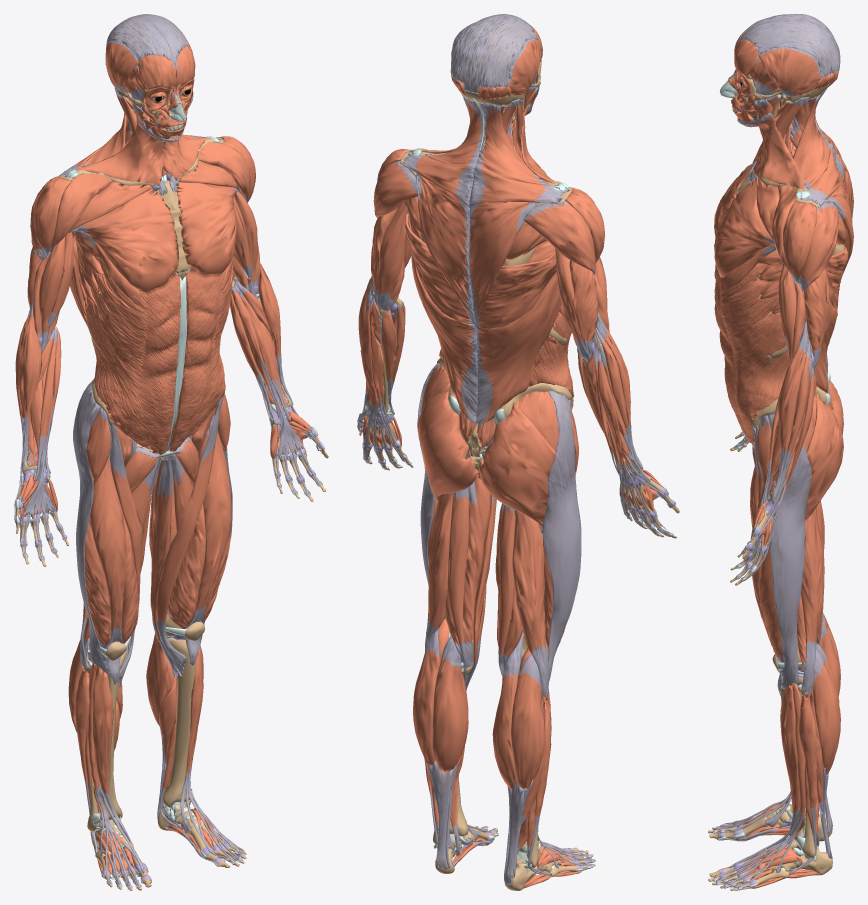
The model's file is myology.glb.
3 renders of one model, left to right at view 1: azimuth 30°, elevation 25°; view 2: azimuth 150°, elevation 25°; view 3: azimuth 270°, elevation 25°, orthographic. The views are drawn at different scales.
Visible parts, largest first — view 1: Object_100, Object_240, Object_29, Object_84, Object_27, Object_70; view 2: Object_100, Object_240, Object_29, Object_84, Object_27; view 3: Object_100, Object_240, Object_29, Object_84, Object_27, Object_61.
Boxes of the visible parts, box(x1,y1,x2,y2) form: Object_100: box(15, 30, 310, 881); Object_240: box(14, 14, 320, 886); Object_29: box(15, 16, 328, 890); Object_84: box(16, 136, 324, 889); Object_27: box(15, 173, 324, 888); Object_70: box(132, 109, 186, 450); Object_100: box(358, 25, 669, 888); Object_240: box(357, 14, 674, 885); Object_29: box(358, 18, 679, 890); Object_84: box(359, 98, 675, 875); Object_27: box(358, 292, 675, 868); Object_100: box(714, 28, 853, 888); Object_240: box(714, 14, 845, 889); Object_29: box(708, 16, 844, 890); Object_84: box(713, 118, 830, 890); Object_27: box(713, 175, 814, 890); Object_61: box(719, 80, 817, 875).
Size of the model in its own units: 0.6692 by 1.7 by 0.2675.
